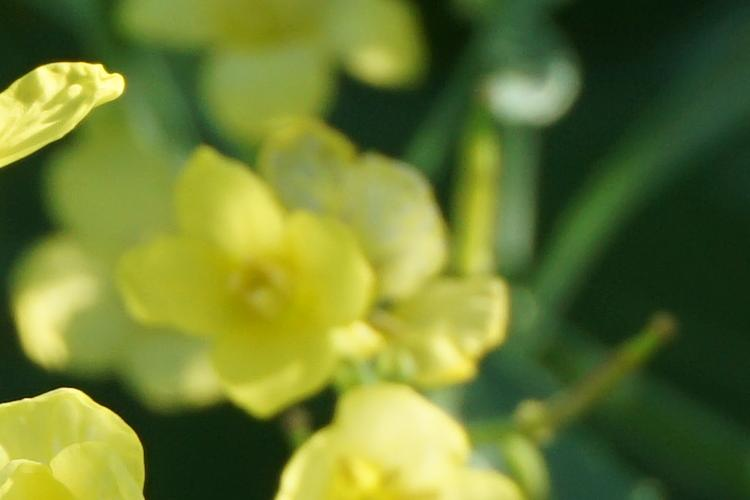pod: (550, 300, 690, 429)
yellow: (148, 159, 376, 408), (291, 406, 520, 500), (8, 386, 156, 494), (3, 62, 125, 155)
